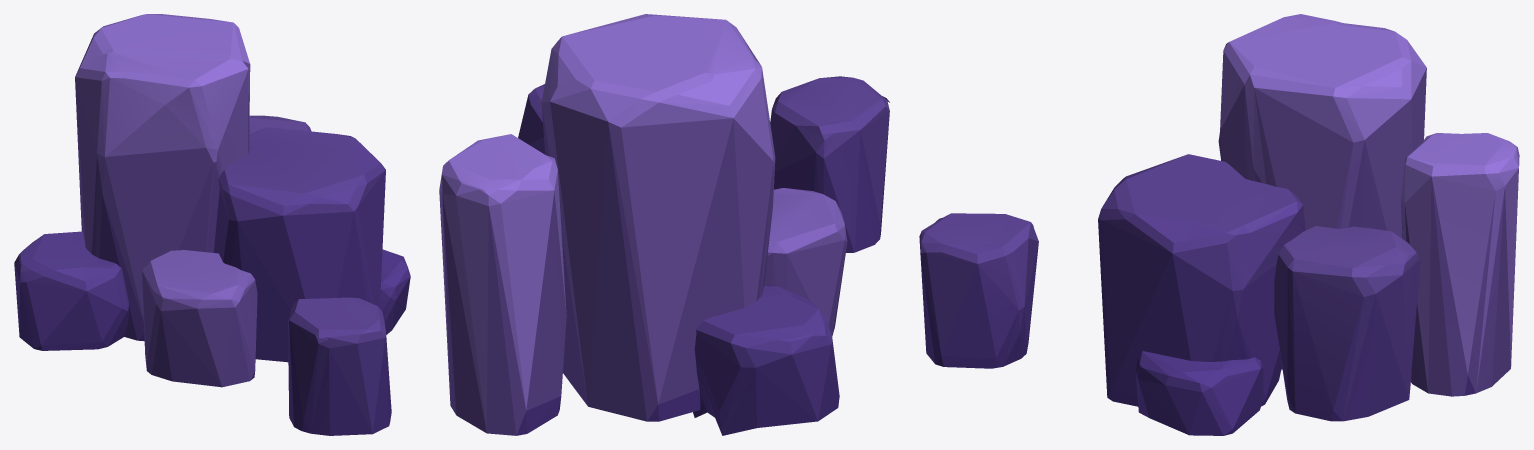
File: angular_rock_stack.glb
3 views of the same model, side by side, from view 1: azimuth 30°, elevation 25°; view 2: azimuth 150°, elevation 25°; view 3: azimuth 270°, elevation 25° (orthographic). The views are drawn at different scales.
Size of the model in its own units: 1.68 by 1.4 by 2.42.
